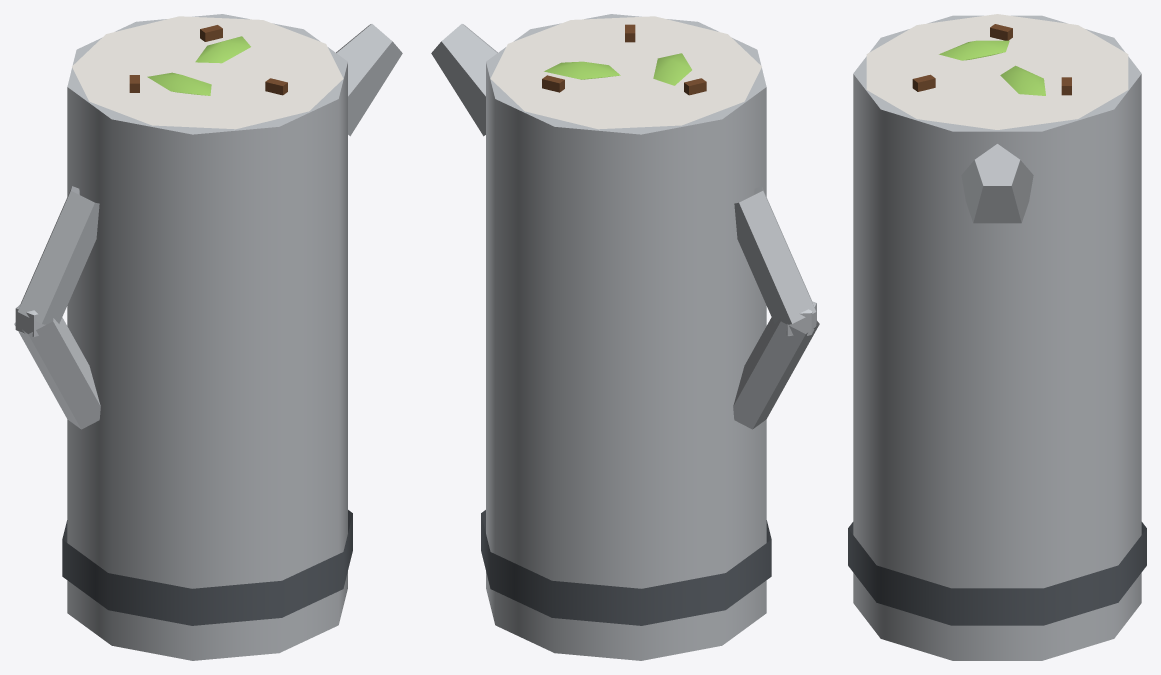
The model's file is prop_chaas_jug.glb.
The picture shows the model from 3 angles, left to right: view 1: azimuth 30°, elevation 25°; view 2: azimuth 150°, elevation 25°; view 3: azimuth 270°, elevation 25°; orthographic projection.
Visible parts, largest first — view 1: prop_chaas_jug; view 2: prop_chaas_jug; view 3: prop_chaas_jug.
Boxes of the visible parts, box(x1,y1,x2,y2) form: prop_chaas_jug: box(14, 14, 402, 660); prop_chaas_jug: box(431, 14, 819, 660); prop_chaas_jug: box(848, 14, 1146, 660).
Bounding box in the file's own units: 0.1278 × 0.175 × 0.087.
1 material, 1 textured.
